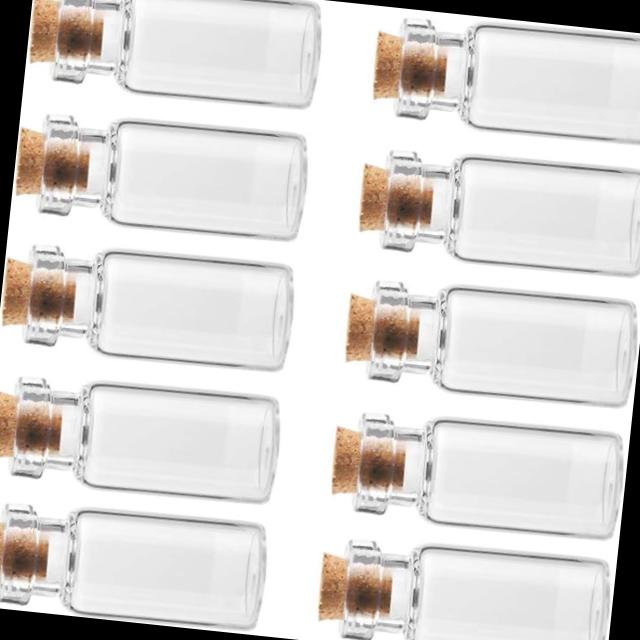glass: (322, 261, 640, 417), (1, 225, 311, 381), (346, 126, 640, 286), (321, 406, 629, 548), (9, 104, 316, 245), (0, 364, 285, 512), (367, 4, 640, 155), (0, 493, 282, 636), (23, 0, 330, 117), (292, 530, 617, 640)
